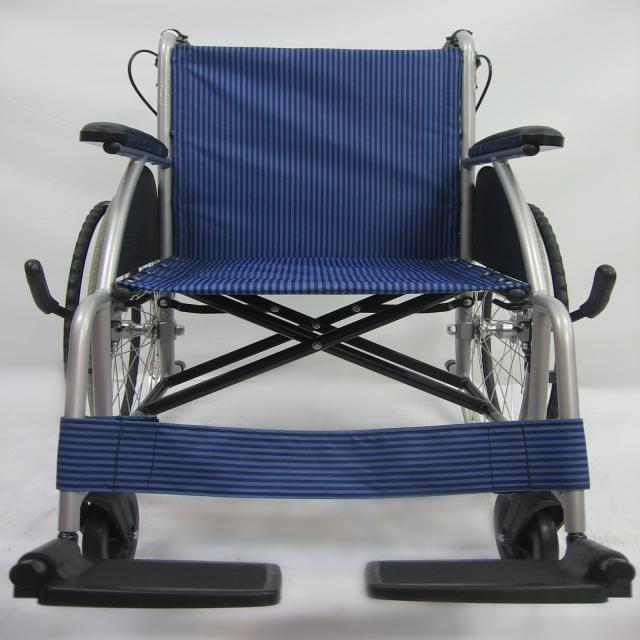wheelchairs: (34, 27, 627, 604)
